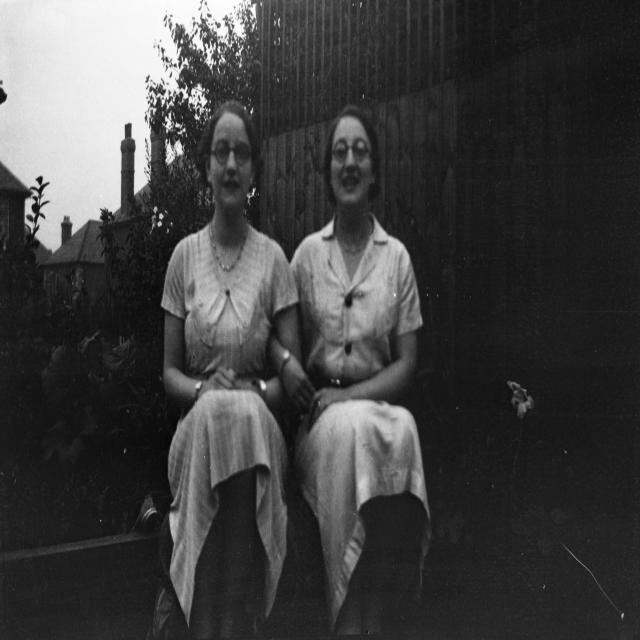nonfall: (150, 103, 298, 552), (309, 111, 431, 587)
